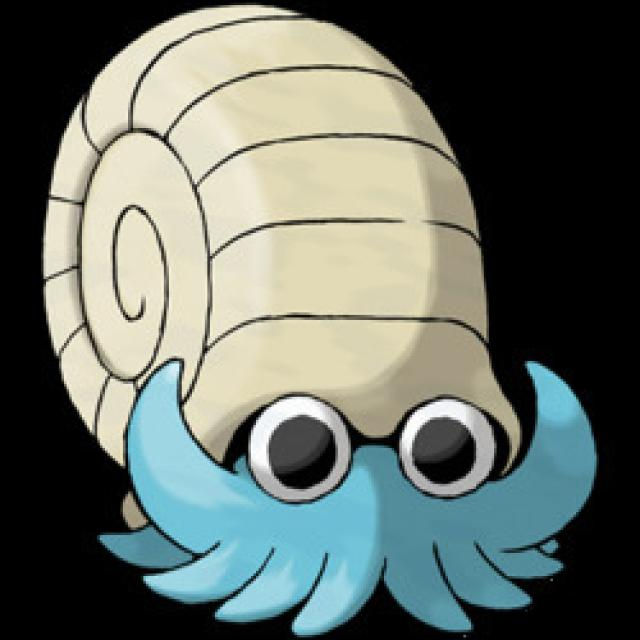Omanyte: (36, 11, 540, 631)
